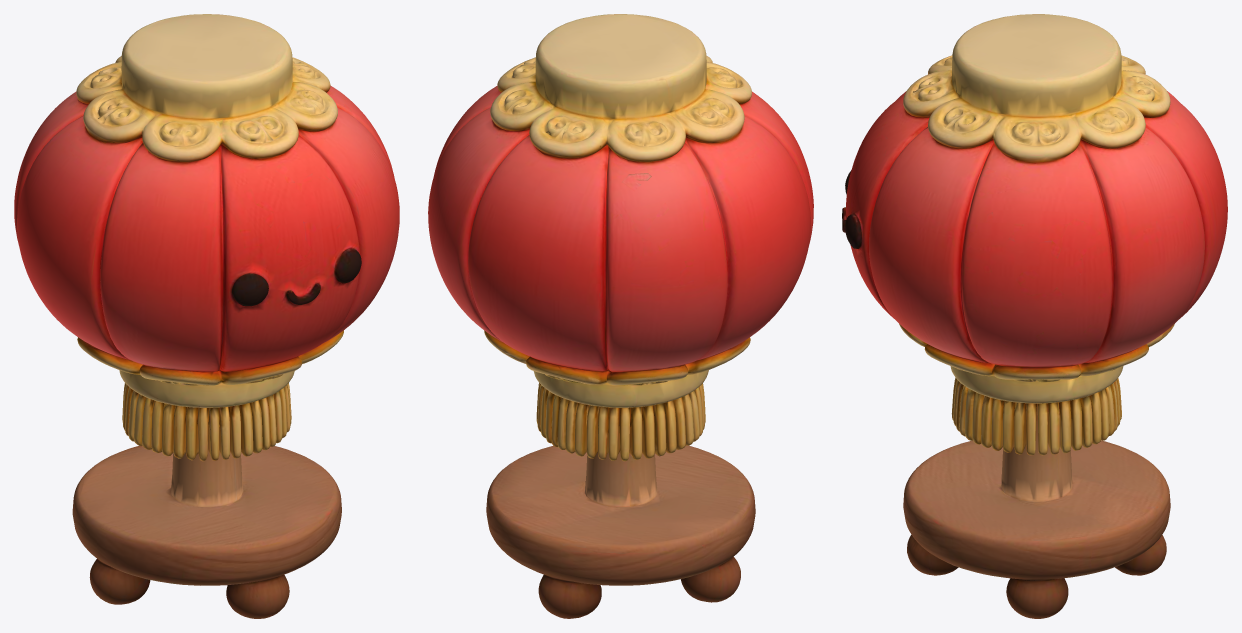
The model's file is redlantern.glb.
3 renders of one model, left to right at view 1: azimuth 30°, elevation 25°; view 2: azimuth 150°, elevation 25°; view 3: azimuth 270°, elevation 25°, orthographic.
Parts seen in each view (by area): view 1: node_0; view 2: node_0; view 3: node_0.
Boxes of the visible parts, box(x1,y1,x2,y2) form: node_0: box(14, 14, 399, 618); node_0: box(428, 14, 813, 618); node_0: box(842, 14, 1227, 618).
Size of the model in its own units: 0.7388 by 1.11 by 0.7437.
Materials: 1 (1 with a texture image).
